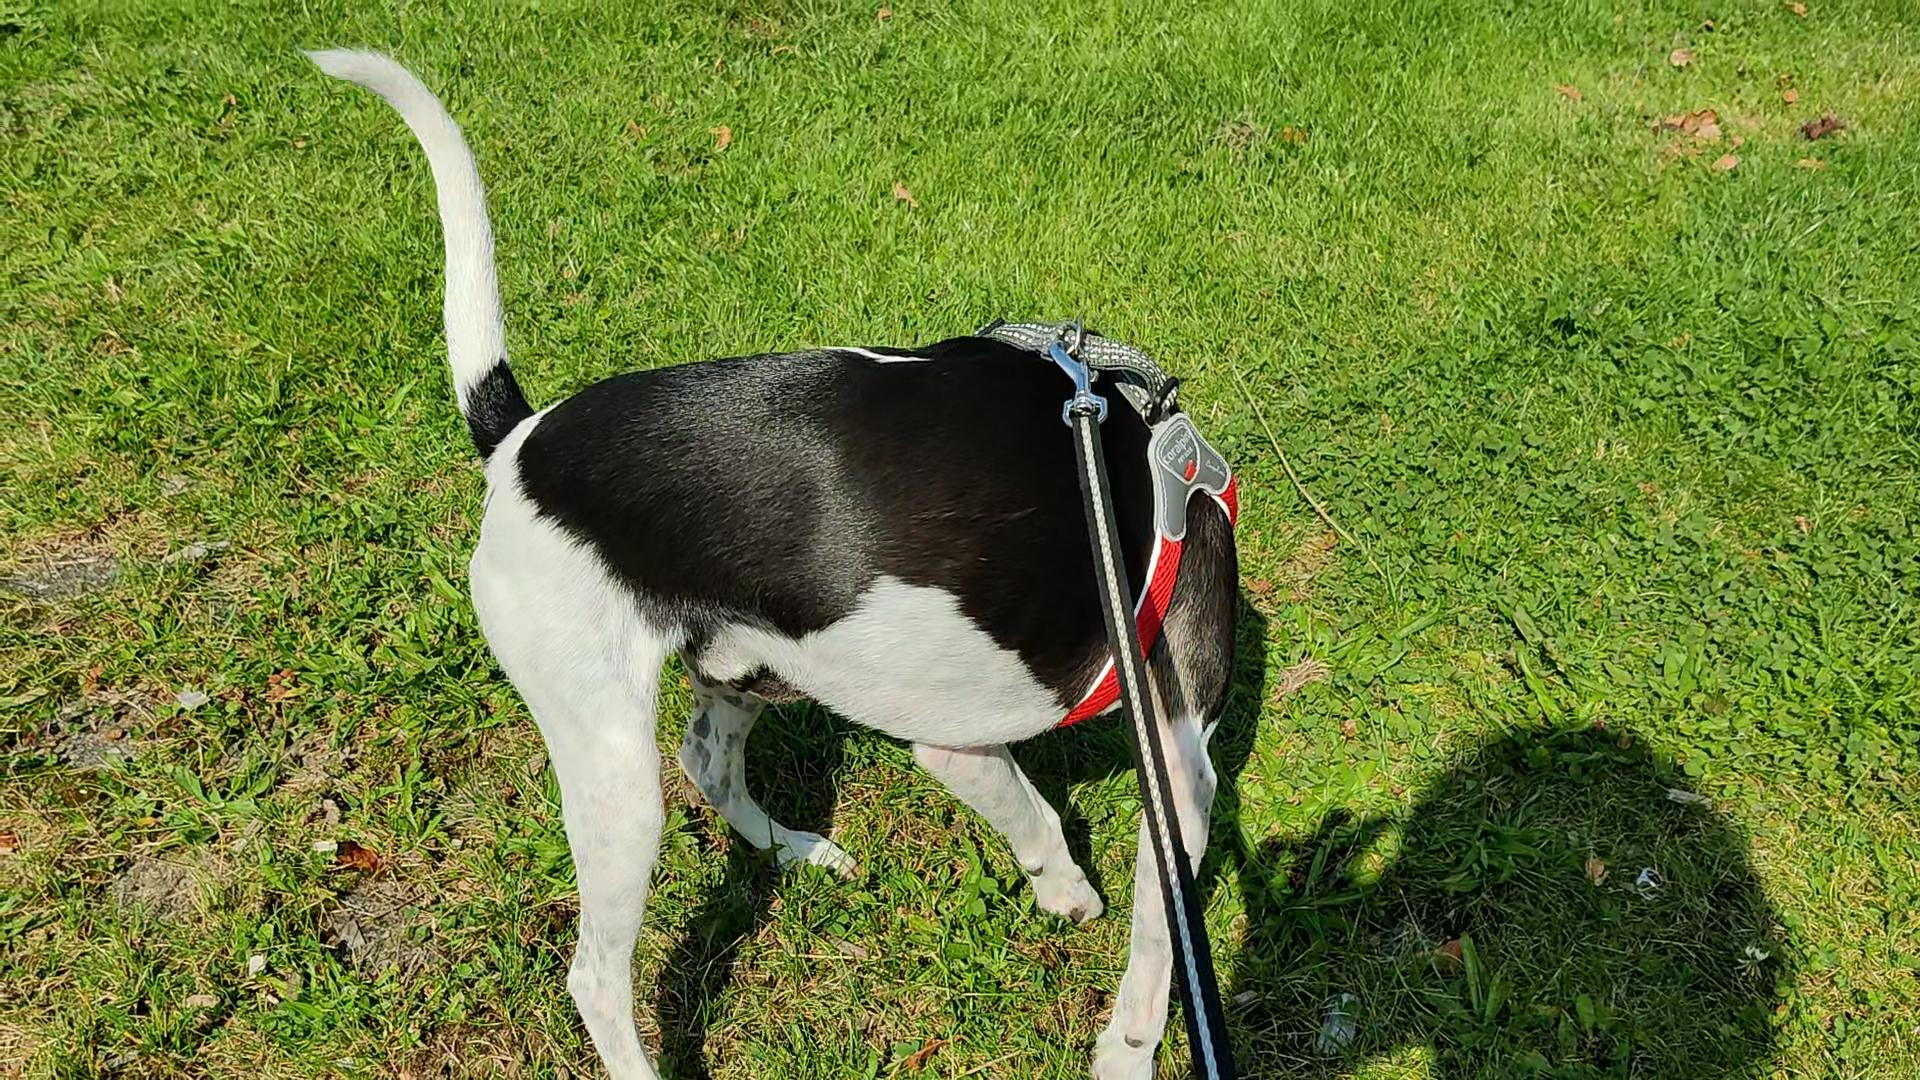Dog: (293, 32, 1246, 1079)
